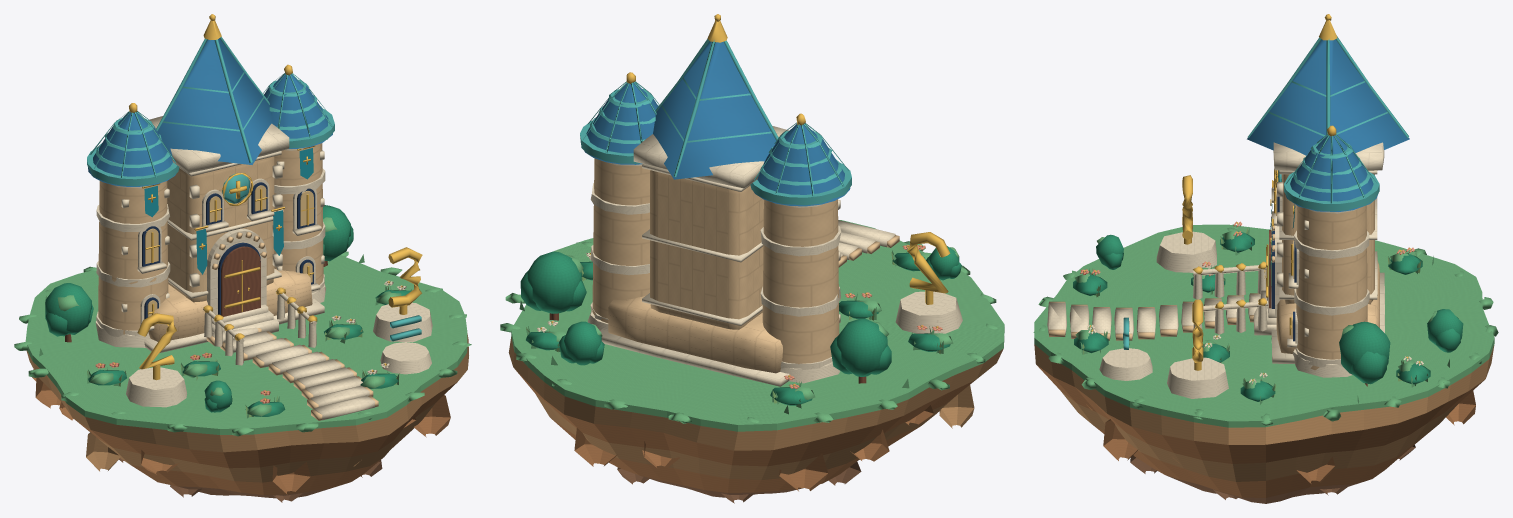
3 views of the same model, side by side, from view 1: azimuth 30°, elevation 25°; view 2: azimuth 150°, elevation 25°; view 3: azimuth 270°, elevation 25° (orthographic). The views are drawn at different scales.
Parts seen in each view (by area): view 1: math-world_Living mint grass, math-world_Pale paving and trim, math-world_Honey limestone masonry, math-world_Glazed blue castle roofs, math-world_Sunlit sandstone strata, math-world_Warm stratified island rock, math-world_Turquoise glazed roof band, math-world_Deep jade leaves, math-world_Gold painted math sculptures, math-world_Walnut arched door, math-world_Deep window recess, math-world_Teal woven banner (+2 smaller); view 2: math-world_Honey limestone masonry, math-world_Living mint grass, math-world_Glazed blue castle roofs, math-world_Pale paving and trim, math-world_Sunlit sandstone strata, math-world_Warm stratified island rock, math-world_Deep jade leaves, math-world_Turquoise glazed roof band, math-world_Gold painted math sculptures, math-world_Deep ochre cliff strata; view 3: math-world_Living mint grass, math-world_Pale paving and trim, math-world_Sunlit sandstone strata, math-world_Honey limestone masonry, math-world_Glazed blue castle roofs, math-world_Warm stratified island rock, math-world_Deep jade leaves, math-world_Turquoise glazed roof band, math-world_Gold painted math sculptures, math-world_Deep ochre cliff strata.
Part boxes in pixels (left/top/right/bottom): math-world_Living mint grass: left=14, top=217, right=471, bottom=436; math-world_Pale paving and trim: left=95, top=116, right=432, bottom=420; math-world_Honey limestone masonry: left=98, top=143, right=378, bottom=420; math-world_Glazed blue castle roofs: left=88, top=38, right=332, bottom=186; math-world_Sunlit sandstone strata: left=26, top=333, right=468, bottom=482; math-world_Warm stratified island rock: left=32, top=369, right=457, bottom=494; math-world_Turquoise glazed roof band: left=87, top=37, right=421, bottom=341; math-world_Deep jade leaves: left=45, top=205, right=410, bottom=416; math-world_Gold painted math sculptures: left=100, top=14, right=422, bottom=400; math-world_Walnut arched door: left=65, top=246, right=327, bottom=342; math-world_Deep window recess: left=142, top=182, right=315, bottom=319; math-world_Teal woven banner: left=144, top=148, right=313, bottom=274; math-world_Honey limestone masonry: left=592, top=158, right=899, bottom=373; math-world_Living mint grass: left=500, top=220, right=1004, bottom=431; math-world_Glazed blue castle roofs: left=580, top=41, right=850, bottom=206; math-world_Pale paving and trim: left=537, top=126, right=962, bottom=386; math-world_Sunlit sandstone strata: left=508, top=337, right=1003, bottom=480; math-world_Warm stratified island rock: left=515, top=369, right=975, bottom=492; math-world_Deep jade leaves: left=520, top=246, right=961, bottom=405; math-world_Turquoise glazed roof band: left=580, top=39, right=851, bottom=205; math-world_Gold painted math sculptures: left=540, top=14, right=950, bottom=386; math-world_Deep ochre cliff strata: left=617, top=461, right=861, bottom=503; math-world_Living mint grass: left=1033, top=224, right=1498, bottom=427; math-world_Pale paving and trim: left=1047, top=142, right=1423, bottom=398; math-world_Sunlit sandstone strata: left=1034, top=344, right=1494, bottom=481; math-world_Honey limestone masonry: left=1049, top=174, right=1379, bottom=370; math-world_Glazed blue castle roofs: left=1247, top=39, right=1409, bottom=211; math-world_Warm stratified island rock: left=1037, top=365, right=1484, bottom=497; math-world_Deep jade leaves: left=1073, top=231, right=1463, bottom=401; math-world_Turquoise glazed roof band: left=1123, top=35, right=1408, bottom=349; math-world_Gold painted math sculptures: left=1083, top=14, right=1420, bottom=381; math-world_Deep ochre cliff strata: left=1130, top=444, right=1415, bottom=503.
Size of the model in its own units: 4.18 by 4.51 by 4.1.
16 materials, 16 textured.
